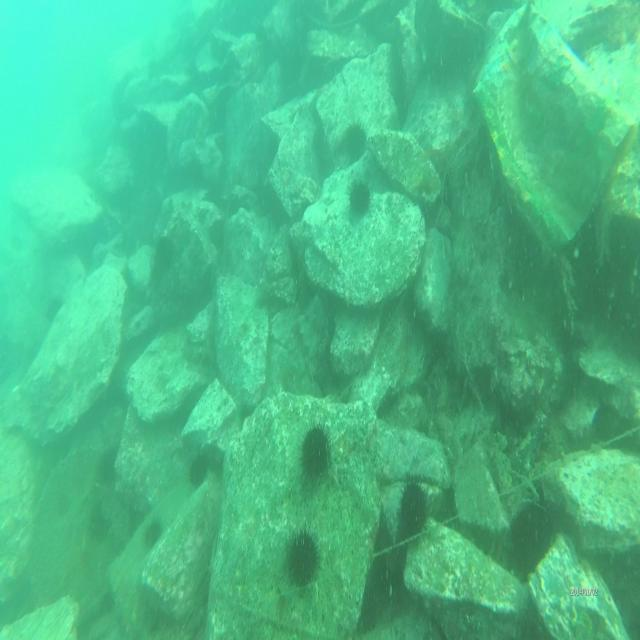echinus: (297, 421, 334, 487), (283, 524, 319, 590), (396, 476, 429, 541), (337, 116, 371, 167), (346, 174, 370, 220), (152, 232, 176, 272), (186, 452, 210, 492), (145, 517, 165, 552)
